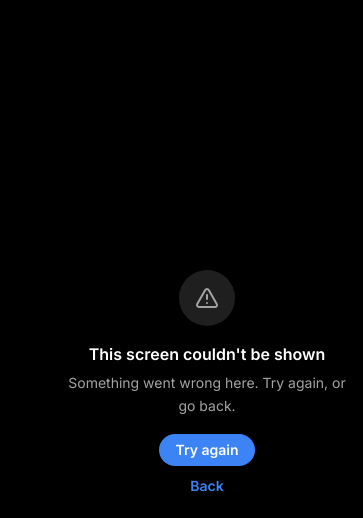
Test: ScreenErrorBoundary › Back leaves the broken screen, and the next screen shows normally
Later steps or results of the test are not shown.
Click the button "Back". click: [207, 486]
box: x1=174 y1=470 x2=240 y2=502
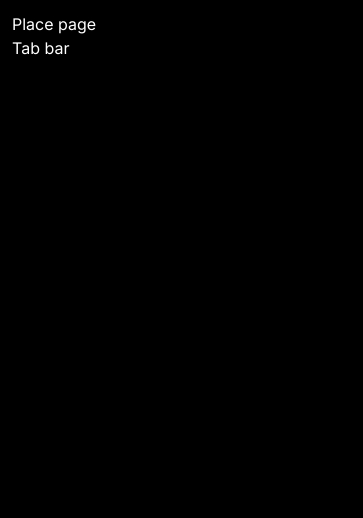
Now the text "This screen couldn't be shown" is gone
Now the text "Place page" is shown, box x1=12 y1=14 x2=96 y2=34
